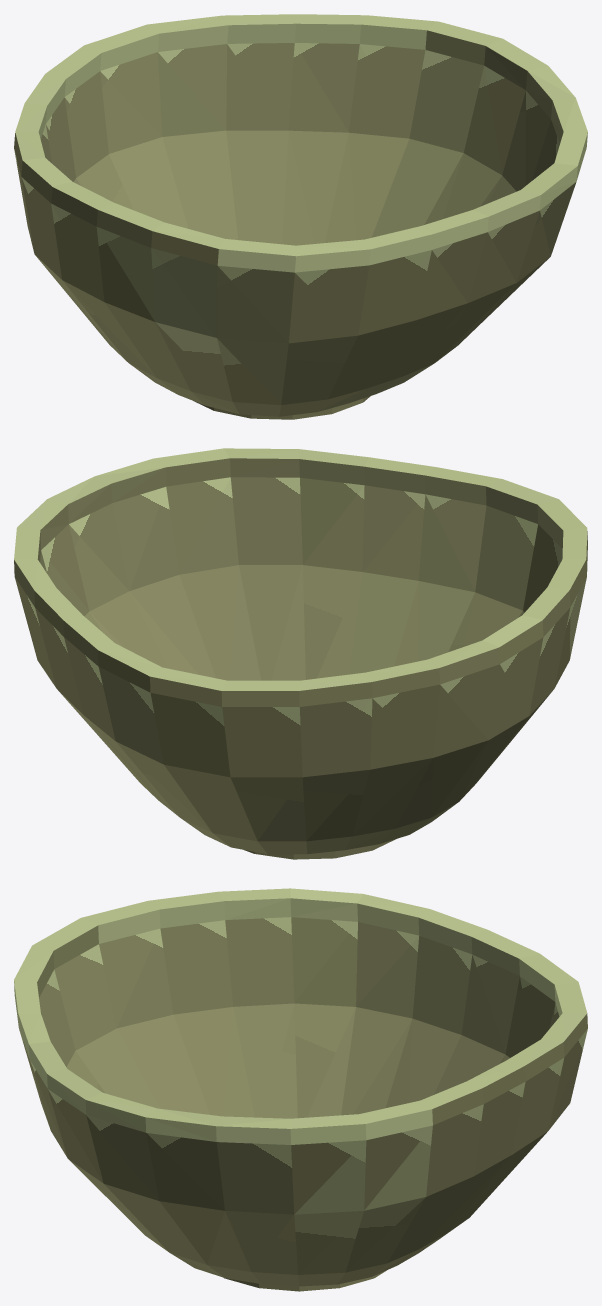
Rendered from vessel-iga.glb.
3 renders of one model, top to bottom at view 1: azimuth 30°, elevation 25°; view 2: azimuth 150°, elevation 25°; view 3: azimuth 270°, elevation 25°, orthographic.
Visible parts, largest first — view 1: vessel-iga/complete-inner-outer-shell-with-drainage, vessel-iga/complete-open-foot-ring; view 2: vessel-iga/complete-inner-outer-shell-with-drainage, vessel-iga/complete-open-foot-ring; view 3: vessel-iga/complete-inner-outer-shell-with-drainage, vessel-iga/complete-open-foot-ring.
Boxes of the visible parts, x1,y1,x2,y2 form: vessel-iga/complete-inner-outer-shell-with-drainage: (14,14,587,416); vessel-iga/complete-open-foot-ring: (194,396,370,419); vessel-iga/complete-inner-outer-shell-with-drainage: (14,448,587,854); vessel-iga/complete-open-foot-ring: (244,839,395,859); vessel-iga/complete-inner-outer-shell-with-drainage: (14,888,587,1286); vessel-iga/complete-open-foot-ring: (224,1270,386,1291).
Bounding box in the file's own units: 0.3847 × 0.1844 × 0.3873.
1 material, 1 textured.
